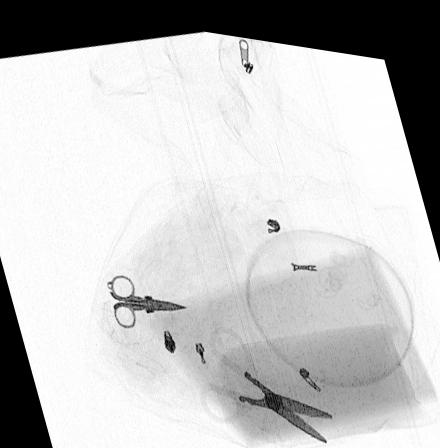Scissors: (197, 318, 335, 434), (104, 269, 188, 325)
